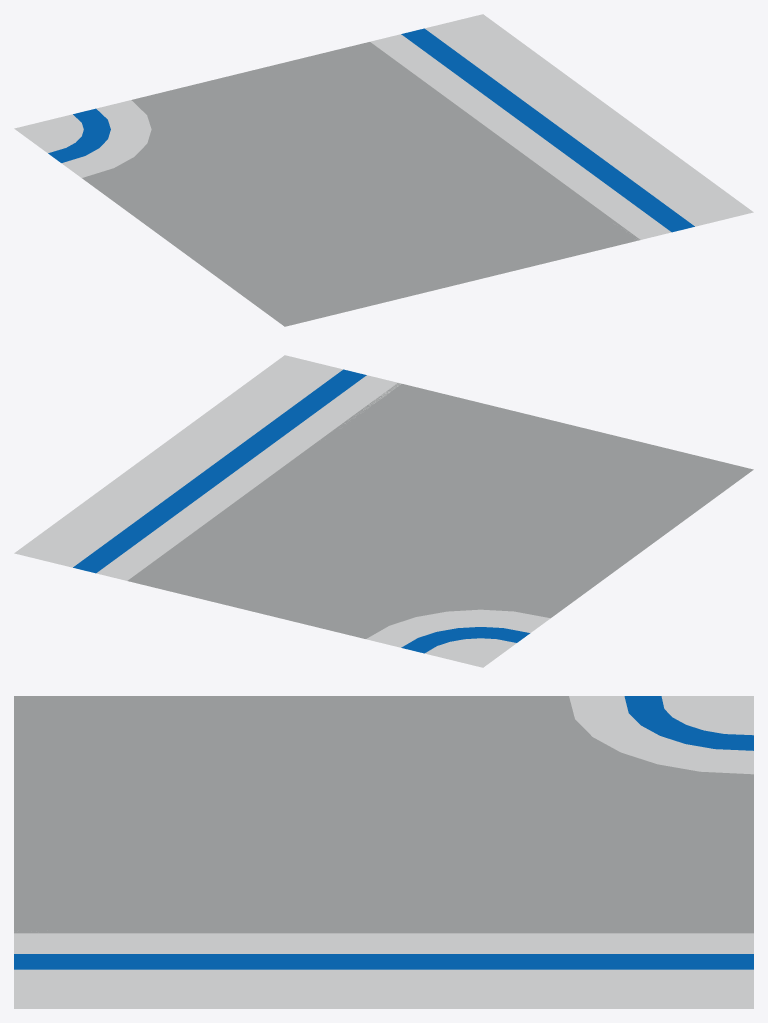
The model's file is Ceiling_type_A_011.003.fbx.
3 views of the same model, one above another, from view 1: azimuth 30°, elevation 25°; view 2: azimuth 150°, elevation 25°; view 3: azimuth 270°, elevation 25° (orthographic). The views are drawn at different scales.
Parts seen in each view (by area): view 1: Ceiling_type_A_011.003; view 2: Ceiling_type_A_011.003; view 3: Ceiling_type_A_011.003.
Part boxes in pixels (x1,y1,x2,y2): Ceiling_type_A_011.003: (14,14,753,326); Ceiling_type_A_011.003: (14,355,753,667); Ceiling_type_A_011.003: (14,696,753,1008).
Size of the model in its own units: 400 by 400 by 5.71.
